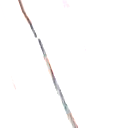crackTip: (16, 1, 85, 128)
